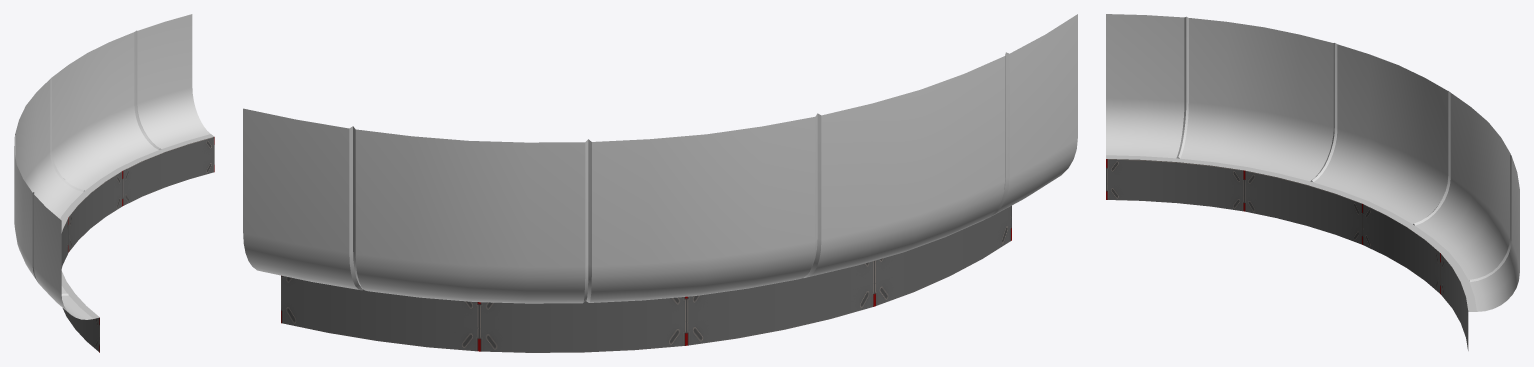
The model's file is TopPlastic_Corner_Round_Outer.gltf.
The picture shows the model from 3 angles, left to right: view 1: azimuth 30°, elevation 25°; view 2: azimuth 150°, elevation 25°; view 3: azimuth 270°, elevation 25°; orthographic projection. The views are drawn at different scales.
Visible parts, largest first — view 1: TopPlastic_Corner_Round_Outer; view 2: TopPlastic_Corner_Round_Outer; view 3: TopPlastic_Corner_Round_Outer.
Boxes of the visible parts, left/top/right/bottom form: TopPlastic_Corner_Round_Outer: left=14, top=14, right=214, bottom=352; TopPlastic_Corner_Round_Outer: left=243, top=14, right=1077, bottom=352; TopPlastic_Corner_Round_Outer: left=1106, top=14, right=1519, bottom=350.
Bounding box in the file's own units: 4.57 × 2.02 × 4.57.
3 materials, 2 textured.
